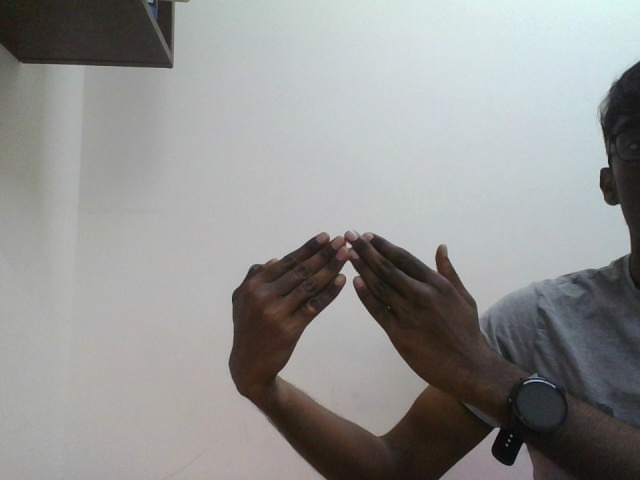Thank You: (237, 229, 475, 354)
